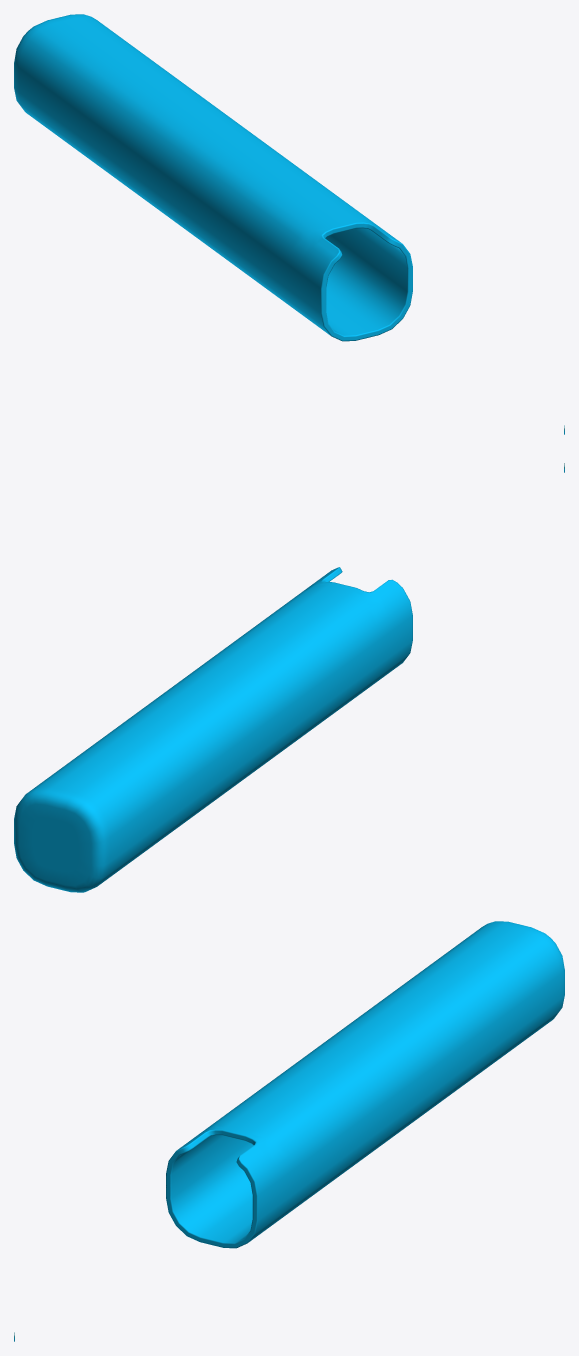
File: brush.gltf
3 views of the same model, one above another, from view 1: azimuth 30°, elevation 25°; view 2: azimuth 150°, elevation 25°; view 3: azimuth 330°, elevation 25° (orthographic).
Parts seen in each view (by area): view 1: lid; view 2: lid; view 3: lid.
Boxes of the visible parts, box(x1,y1,x2,y2) form: lid: box(14, 14, 412, 341); lid: box(14, 567, 412, 892); lid: box(166, 921, 564, 1248).
Size of the model in its own units: 2.26 by 2.26 by 21.82.
